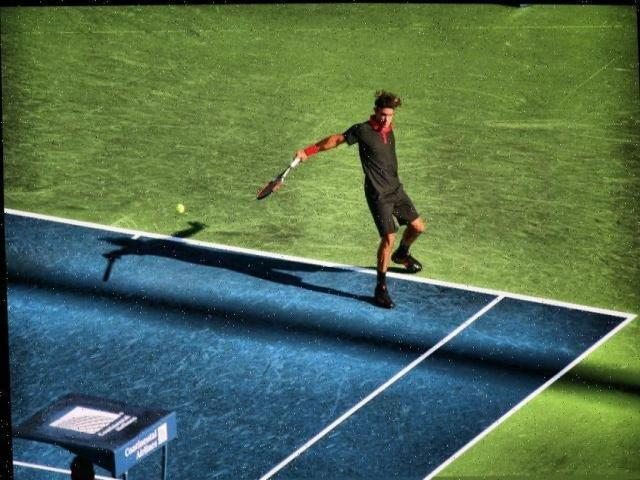tennis-ball: (175, 202, 185, 214)
